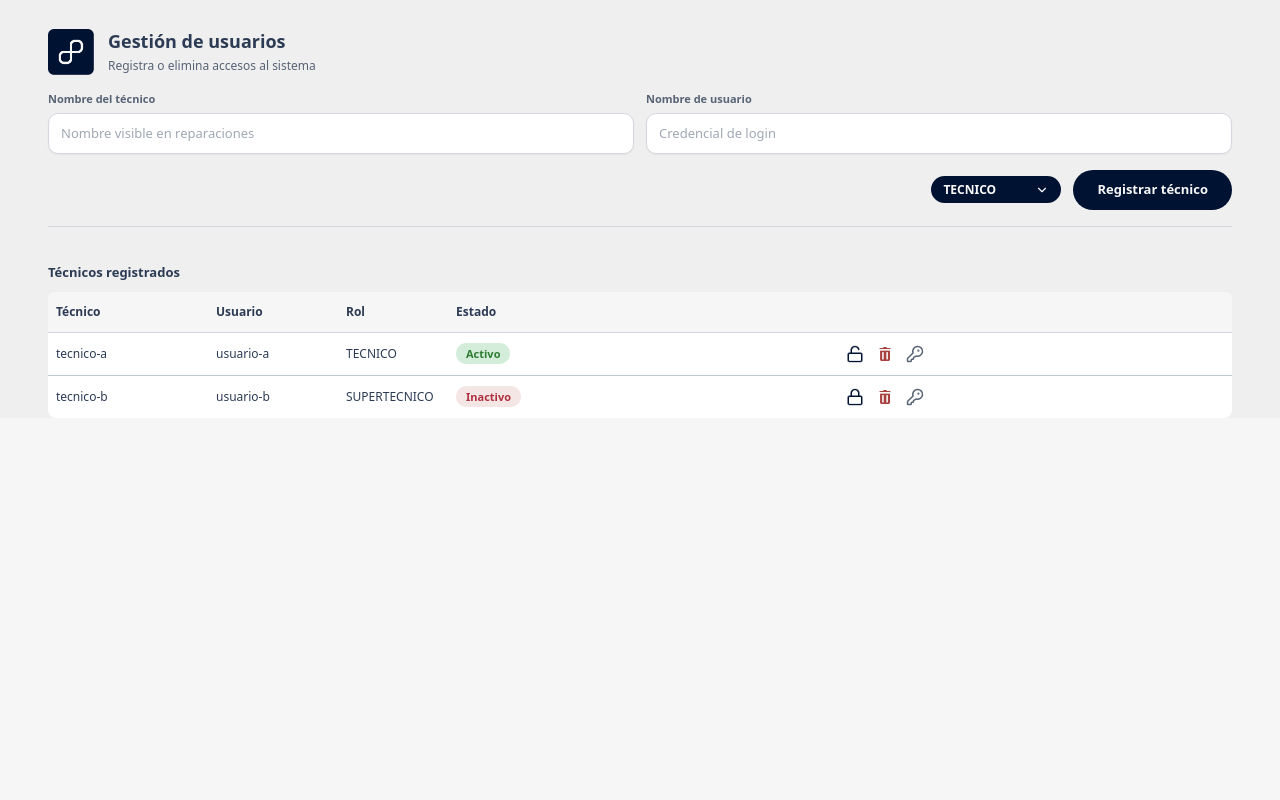
Test: TecnicosPage › tras el alta enseña la temporal una sola vez, con el texto de entrega
Expected: the text "tecnico-a" is shown, [48,332,208,375]
Type "Nuevo Técnico" into the field labelled "Nombre del técnico" at (341,133), box [48,112,634,154]
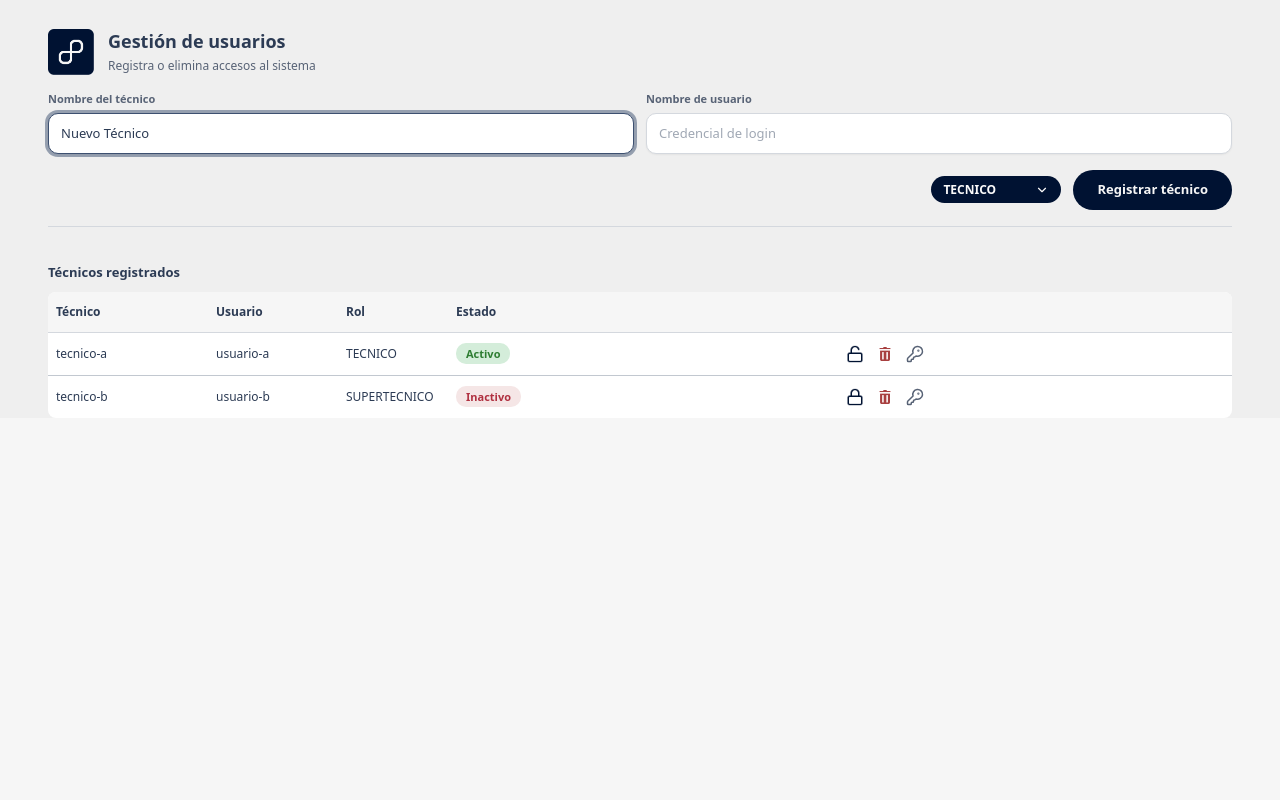
Type "usuario-n" into the field labelled "Nombre de usuario" at (939,133), box [646,112,1232,154]
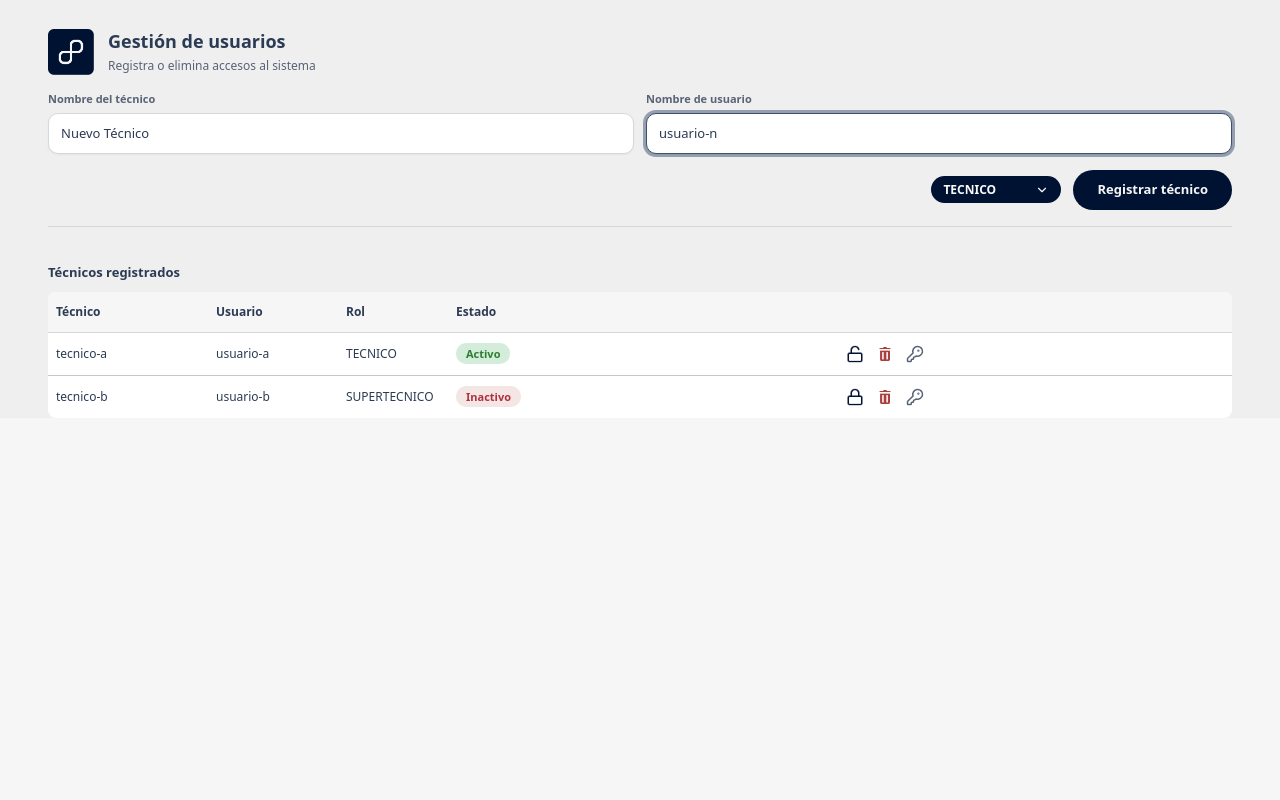
Click the button "Registrar técnico" at (1153,190), box [1073,170,1232,210]
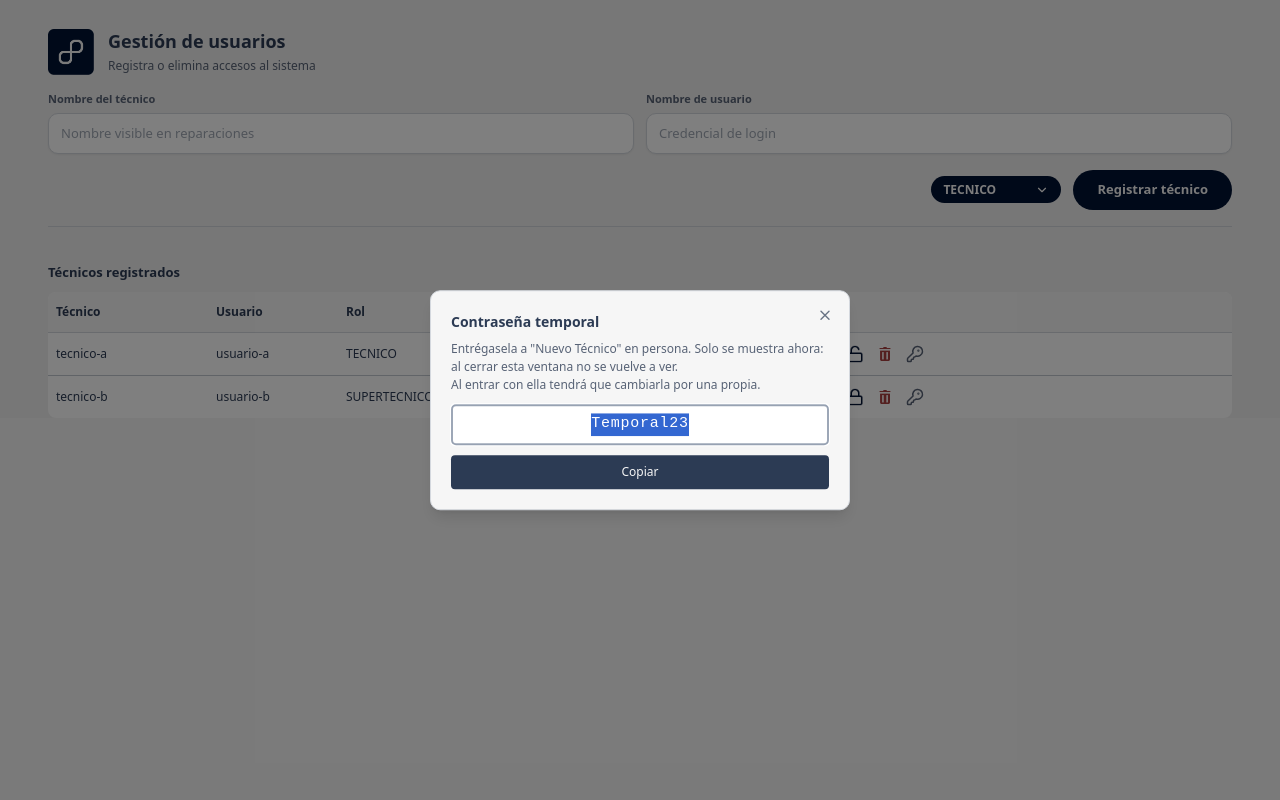
Expected: the field named "Contraseña temporal" holds "Temporal23", [451,404,829,445]
Expected: the dialog "Contraseña temporal" shows "Entrégasela a \"Nuevo Técnico\" en persona", [451,340,824,393]
Press Escape
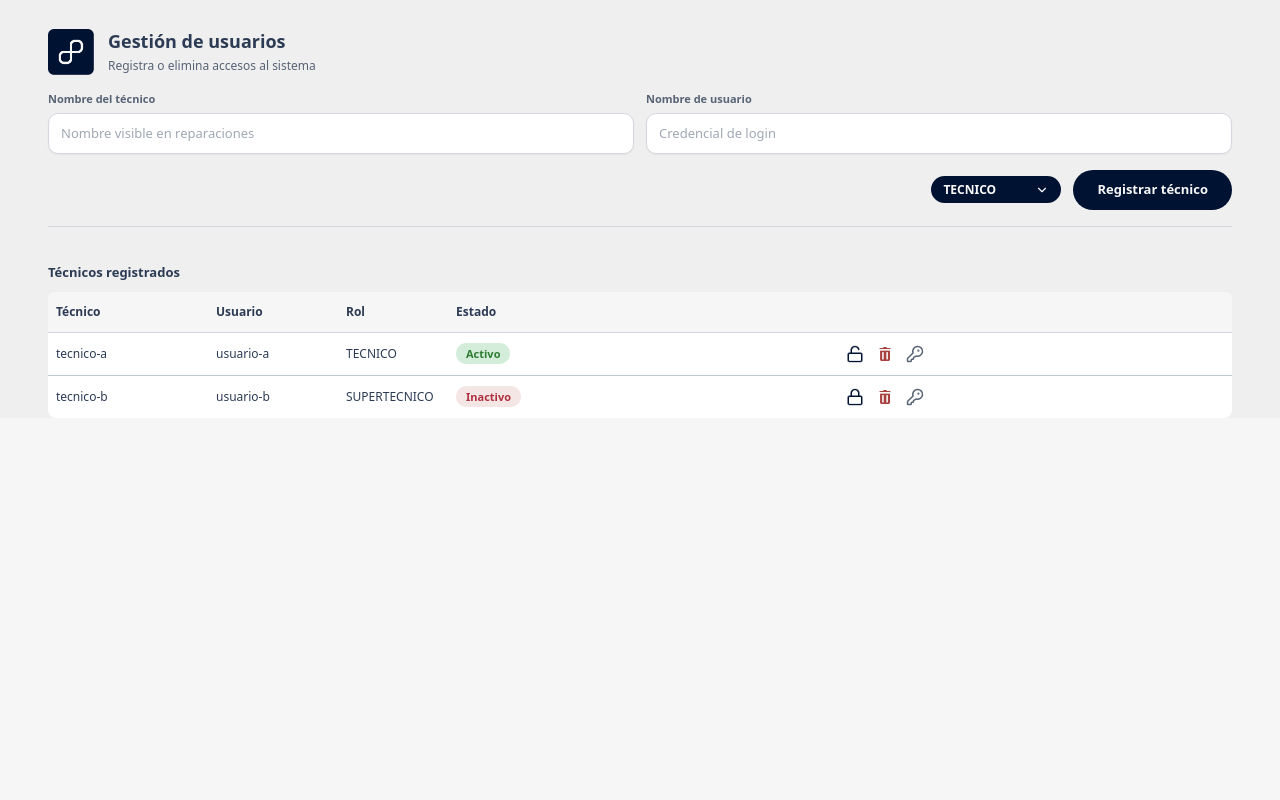
Expected: the field showing "Temporal23" is not shown
Expected: the heading "Contraseña temporal" is gone
